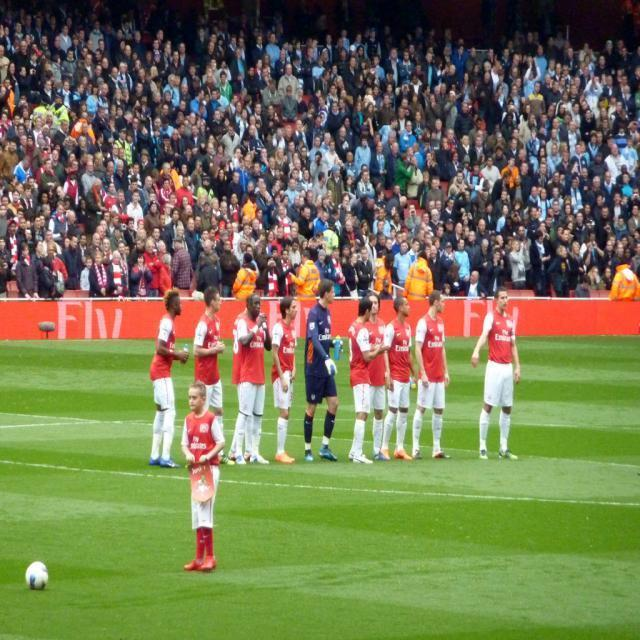football: (13, 551, 74, 600)
